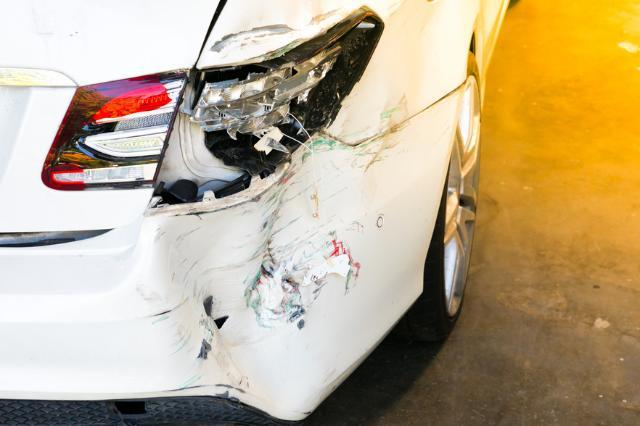Bumper: (165, 156, 404, 393)
Light: (166, 39, 359, 185)
